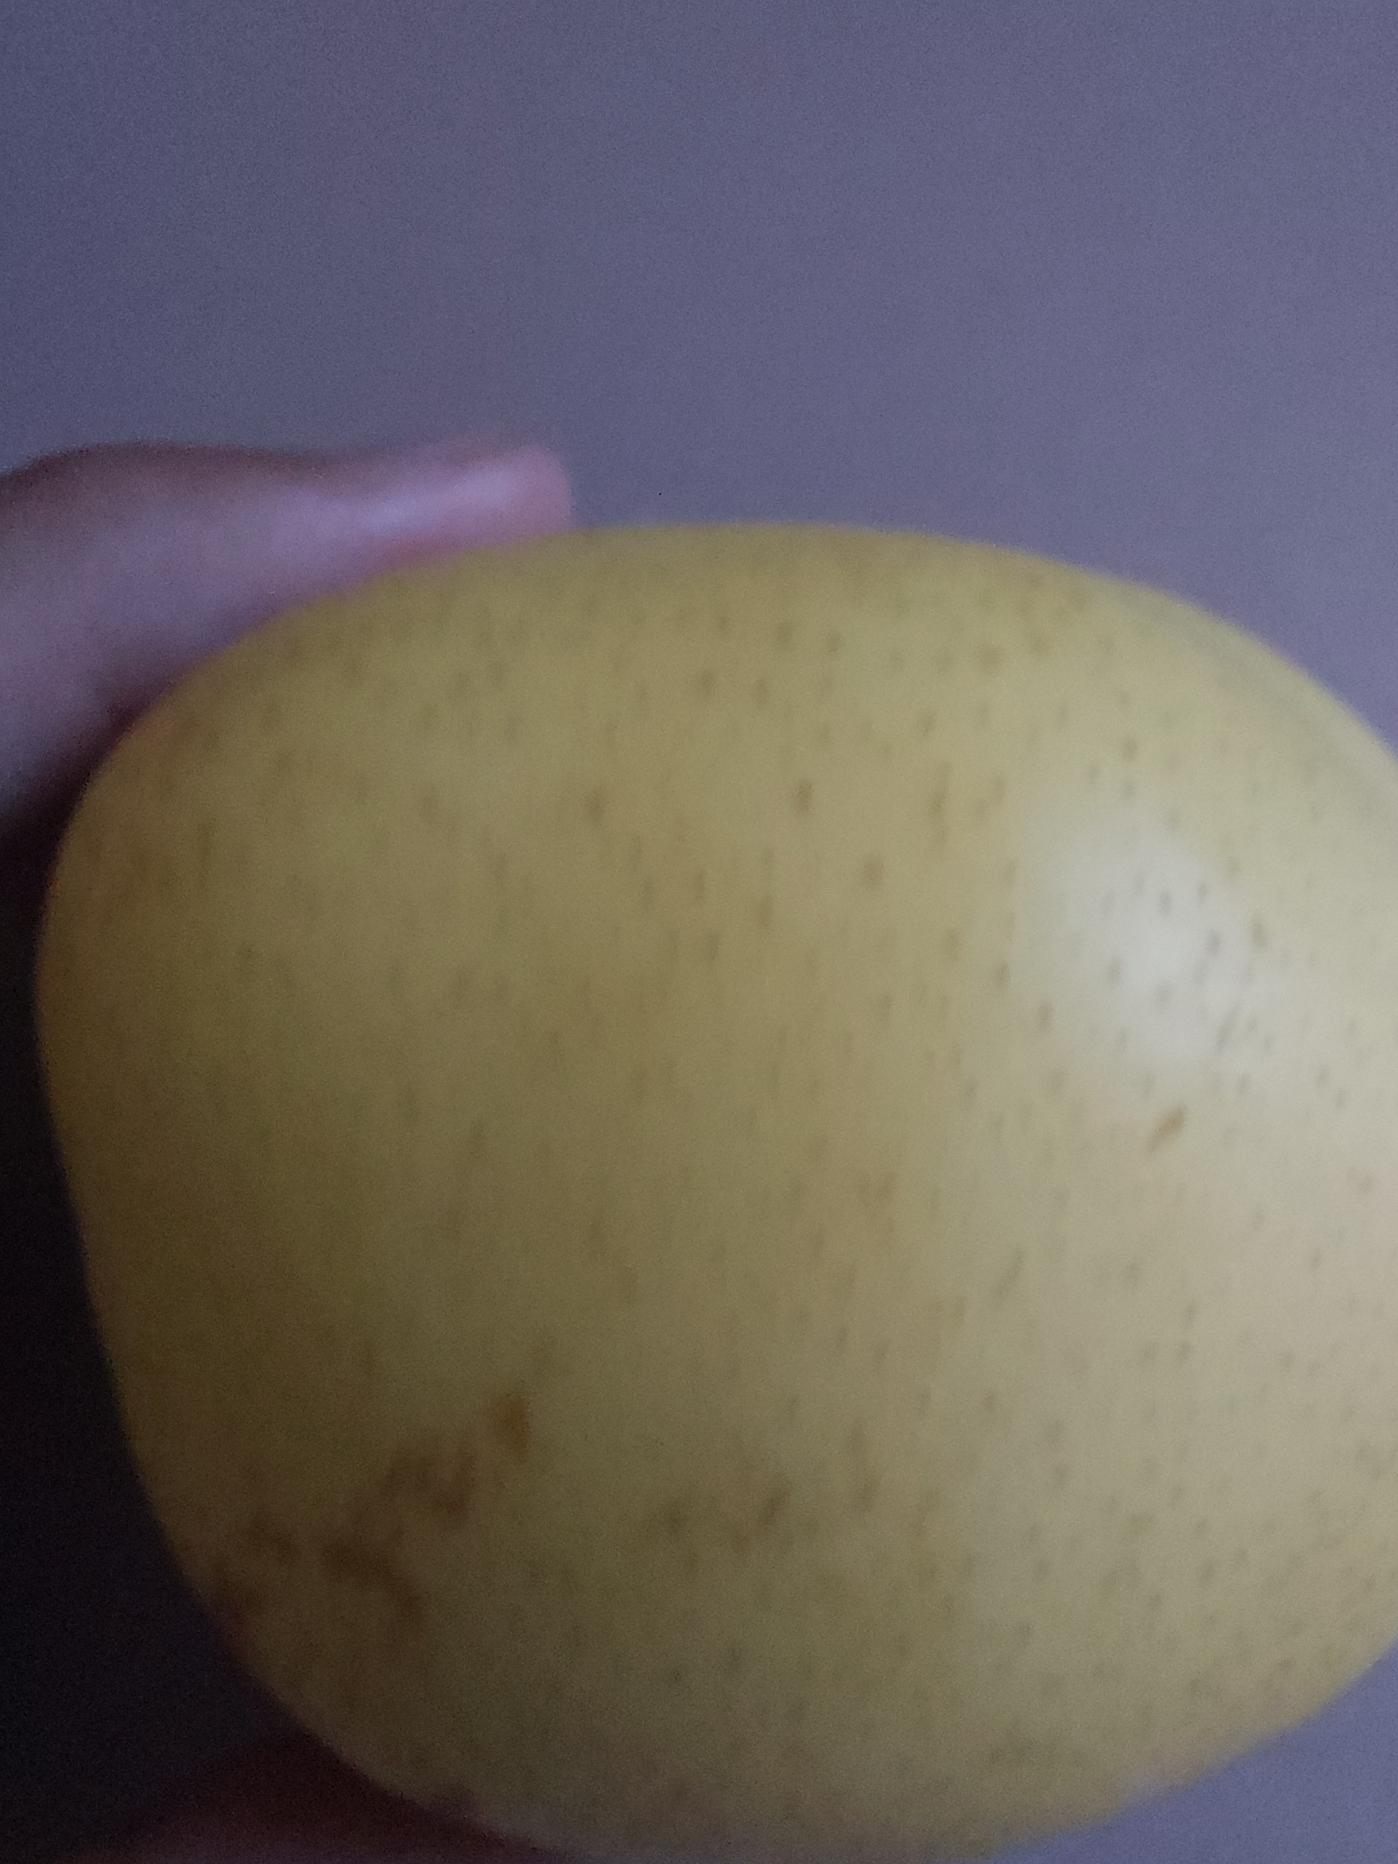Good Pear: (76, 511, 1398, 1864)
